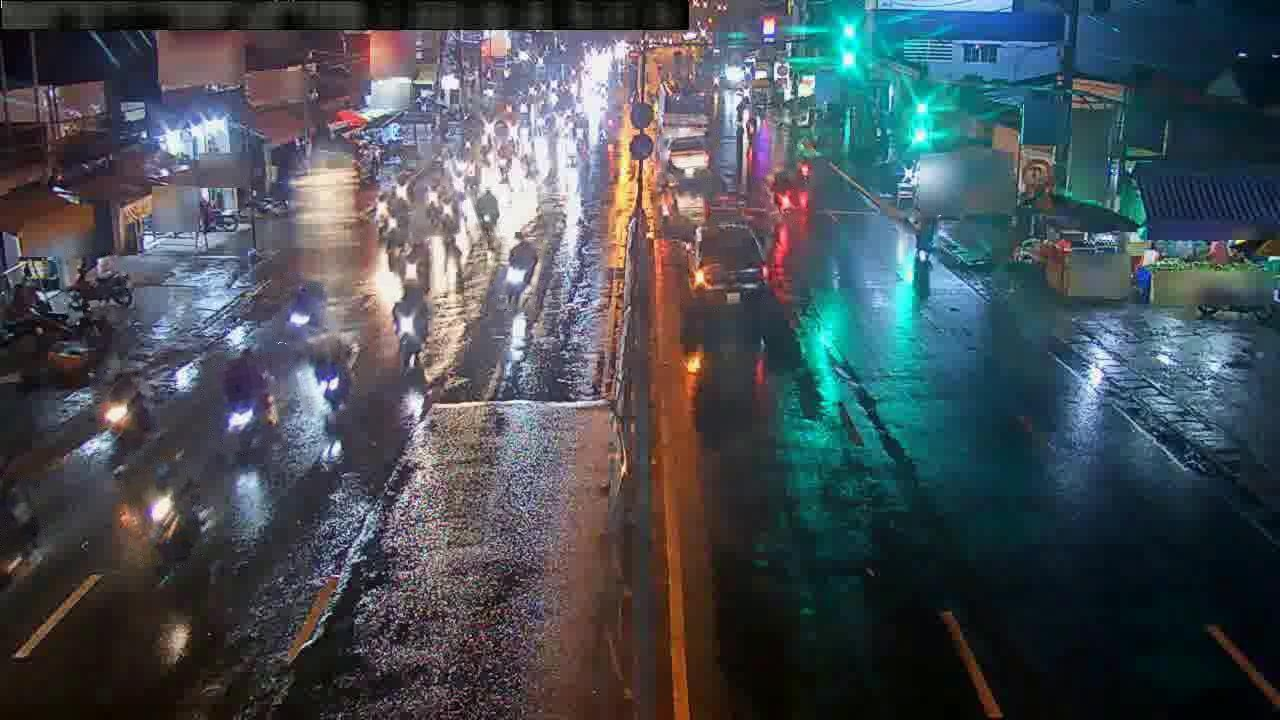Car: (688, 223, 768, 306), (657, 175, 708, 225), (666, 134, 710, 179)
Motorcyclist: (123, 464, 204, 565), (222, 353, 277, 457), (99, 373, 153, 451), (303, 334, 358, 410), (390, 284, 430, 373), (70, 258, 132, 312), (498, 238, 539, 309), (283, 280, 327, 344), (0, 478, 39, 549), (767, 169, 806, 221), (394, 239, 431, 287), (911, 215, 938, 274), (426, 189, 459, 235), (369, 193, 398, 236), (472, 189, 499, 235), (247, 187, 286, 217), (796, 153, 813, 188)
